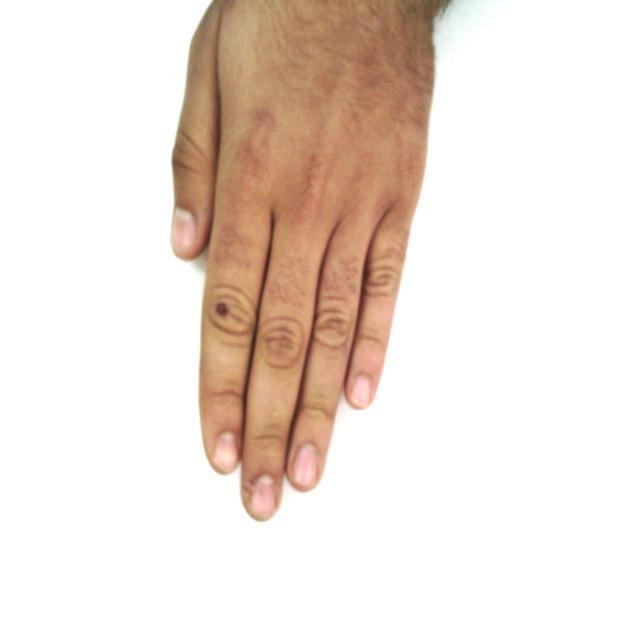Fingernail: (251, 476, 276, 518), (294, 444, 317, 488), (174, 211, 197, 252), (215, 434, 238, 471), (349, 376, 371, 406)
